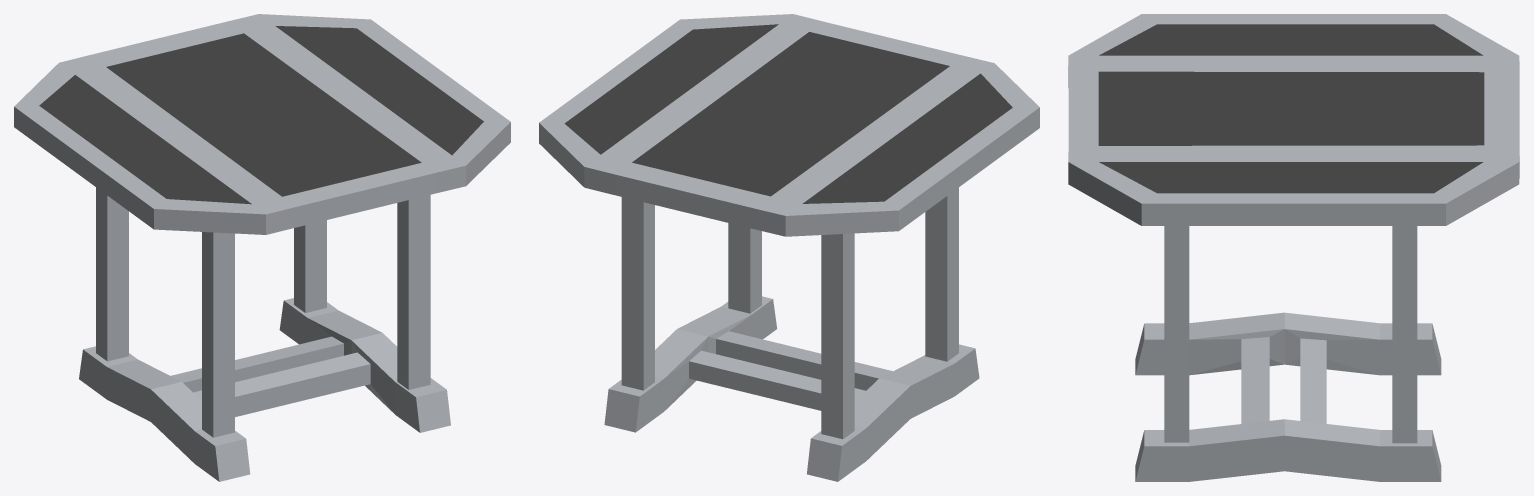
File: PatioTable.obj
3 views of the same model, side by side, from view 1: azimuth 30°, elevation 25°; view 2: azimuth 150°, elevation 25°; view 3: azimuth 270°, elevation 25° (orthographic). The views are drawn at different scales.
Parts seen in each view (by area): view 1: PatioTable; view 2: PatioTable; view 3: PatioTable.
Part boxes in pixels (left/top/right/bottom): PatioTable: left=14, top=14, right=510, bottom=481; PatioTable: left=539, top=14, right=1039, bottom=481; PatioTable: left=1068, top=14, right=1519, bottom=481.
Bounding box in the file's own units: 0.9789 × 0.75 × 0.9848.
Materials: 1 (1 with a texture image).
